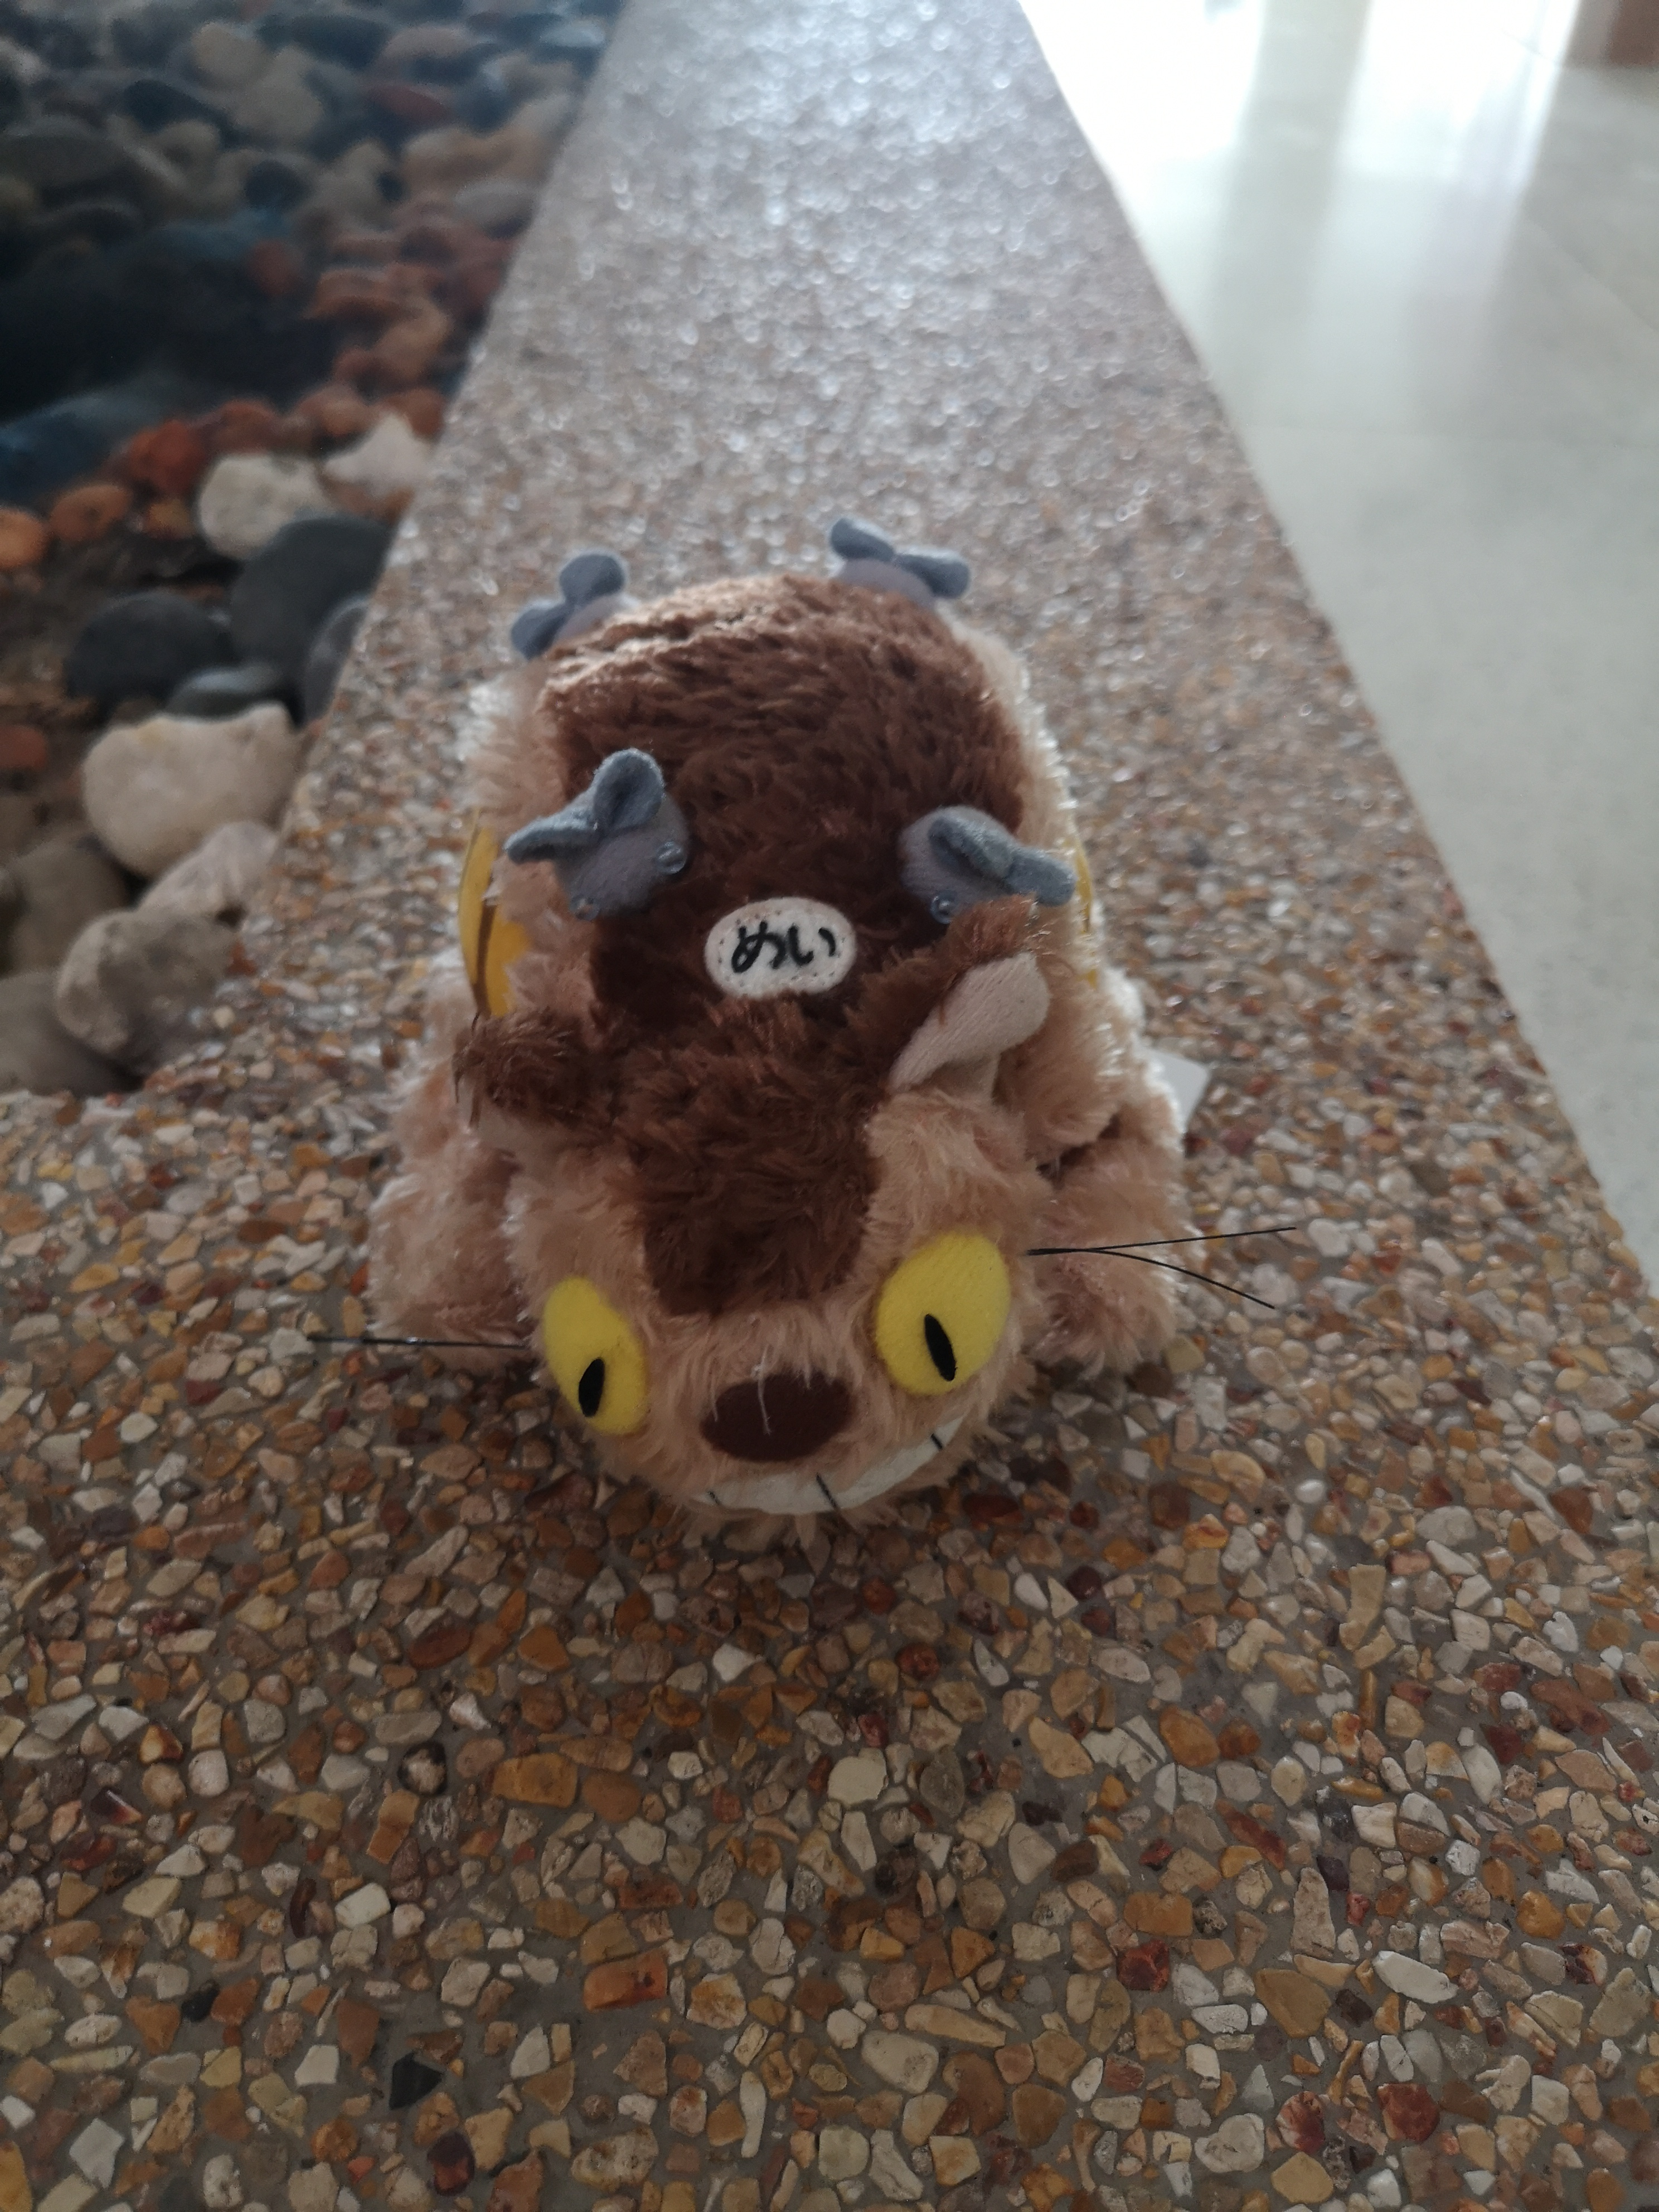nekobus: (369, 516, 1223, 1548)
